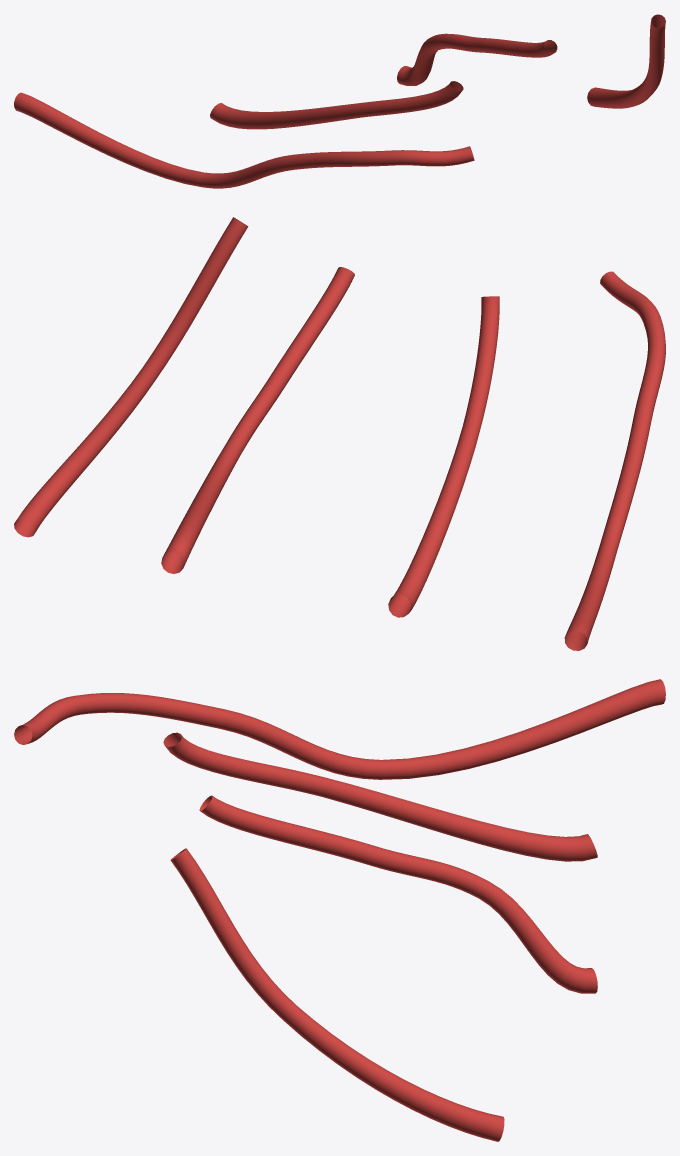
3 views of the same model, one above another, from view 1: azimuth 30°, elevation 25°; view 2: azimuth 150°, elevation 25°; view 3: azimuth 270°, elevation 25° (orthographic). The views are drawn at different scales.
Parts seen in each view (by area): view 1: 右侧指掌侧总动脉; view 2: 右侧指掌侧总动脉; view 3: 右侧指掌侧总动脉.
Boxes of the visible parts, <box> form: 右侧指掌侧总动脉: <box>14,14,665,188</box>; 右侧指掌侧总动脉: <box>14,217,665,650</box>; 右侧指掌侧总动脉: <box>14,679,665,1141</box>.
Bounding box in the file's own units: 0.0835 × 0.0287 × 0.0665.
